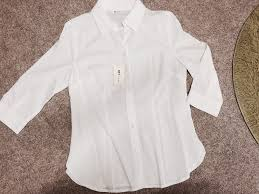C_shirt: (4, 1, 223, 194)
